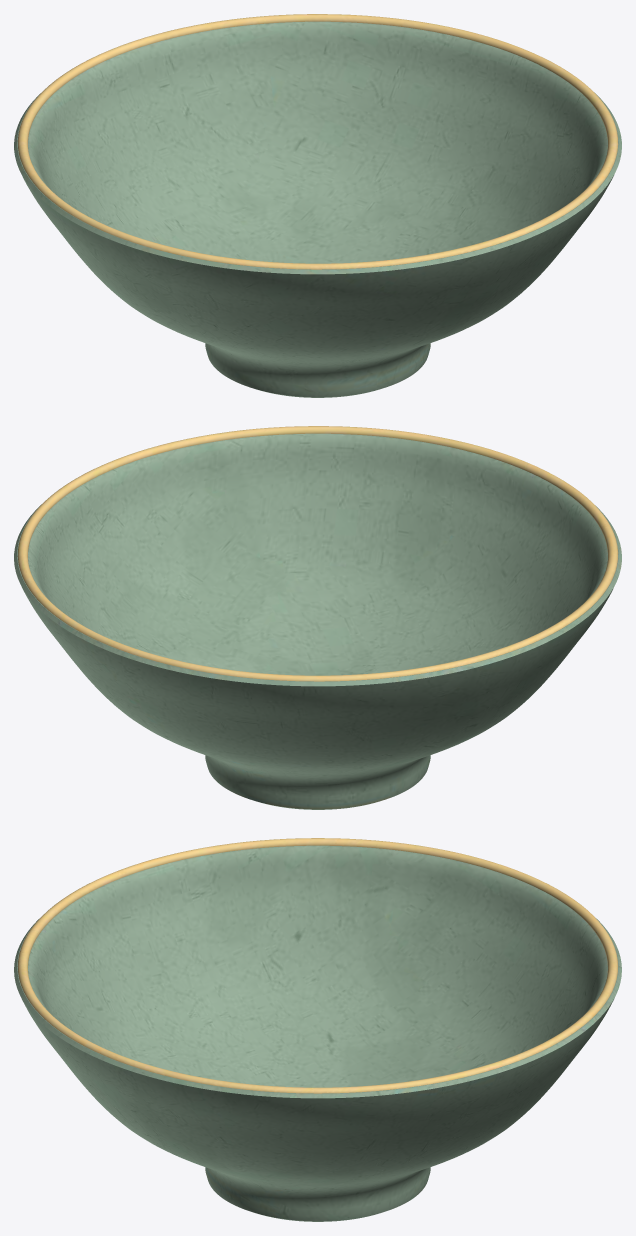
File: celadon_bowl.glb
3 renders of one model, top to bottom at view 1: azimuth 30°, elevation 25°; view 2: azimuth 150°, elevation 25°; view 3: azimuth 270°, elevation 25°, orthographic.
Parts seen in each view (by area): view 1: celadon_bowl; view 2: celadon_bowl; view 3: celadon_bowl.
Boxes of the visible parts, <box> form: celadon_bowl: <box>14,14,621,397</box>; celadon_bowl: <box>14,426,621,809</box>; celadon_bowl: <box>14,838,621,1221</box>.
Size of the model in its own units: 0.1967 by 0.0764 by 0.1967.
1 material, 1 textured.
